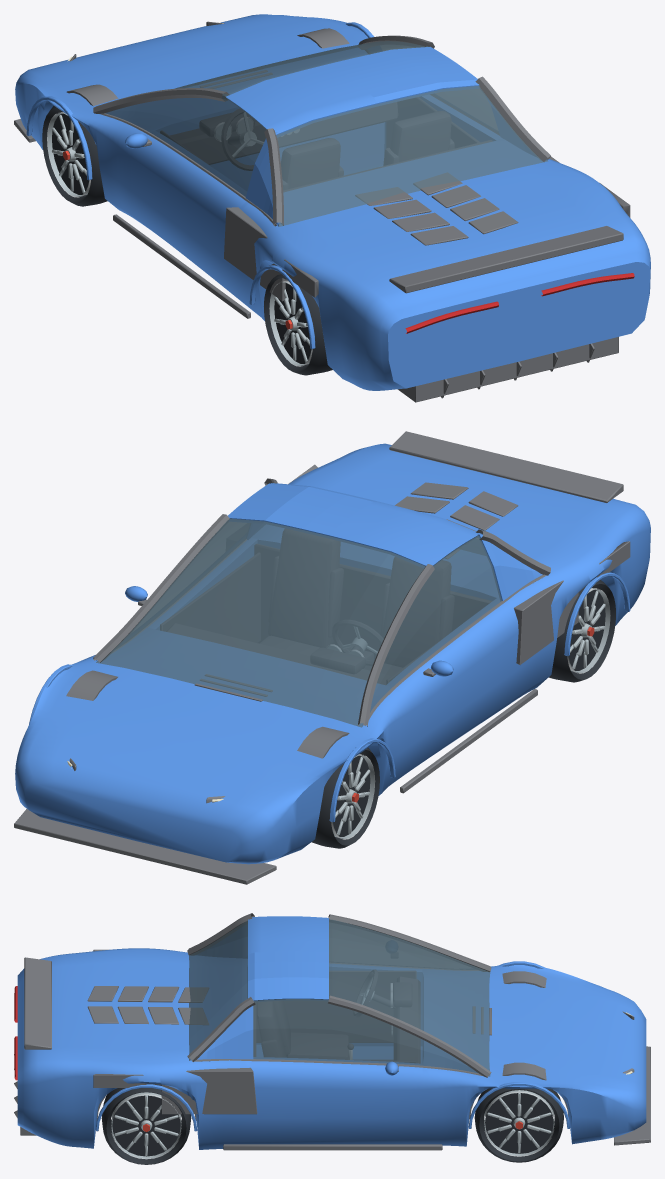
Rendered from Tempesta.fbx.
3 renders of one model, top to bottom at view 1: azimuth 30°, elevation 25°; view 2: azimuth 150°, elevation 25°; view 3: azimuth 270°, elevation 25°, orthographic. The views are drawn at different scales.
Parts seen in each view (by area): view 1: Body__paint, Body__glass, Body__engine, Body__interior, WheelRL__rubber, WheelFL__rubber, WheelFL__metal, WheelRL__metal, Body__tail; view 2: Body__paint, Body__glass, Body__interior, Body__engine, WheelFL__rubber, WheelRL__rubber, WheelRL__metal, WheelFL__metal; view 3: Body__paint, Body__glass, Body__engine, Body__interior, WheelFR__rubber, WheelRR__rubber, WheelFR__metal, WheelRR__metal.
Part boxes in pixels (x1,y1,x2,y2): Body__paint: (15, 14, 650, 390); Body__glass: (105, 41, 547, 226); Body__engine: (14, 21, 630, 402); Body__interior: (160, 97, 492, 191); WheelRL__rubber: (264, 274, 332, 375); WheelFL__rubber: (42, 106, 107, 206); WheelFL__metal: (47, 112, 89, 196); WheelRL__metal: (269, 281, 312, 365); Body__tail: (405, 273, 634, 333); Body__paint: (15, 443, 650, 864); Body__glass: (96, 483, 501, 727); Body__interior: (160, 529, 491, 684); Body__engine: (14, 431, 630, 884); WheelFL__rubber: (311, 747, 379, 848); WheelRL__rubber: (549, 579, 615, 682); WheelRL__metal: (567, 588, 610, 672); WheelFL__metal: (332, 755, 374, 838); Body__paint: (17, 916, 646, 1149); Body__glass: (189, 919, 490, 1076); Body__engine: (14, 913, 650, 1150); Body__interior: (253, 971, 420, 1063); WheelFR__rubber: (474, 1088, 563, 1162); WheelRR__rubber: (101, 1083, 191, 1164); WheelFR__metal: (484, 1090, 554, 1156); WheelRR__metal: (111, 1092, 181, 1158).
Bounding box in the file's own units: 2.25 × 1.27 × 4.65.
